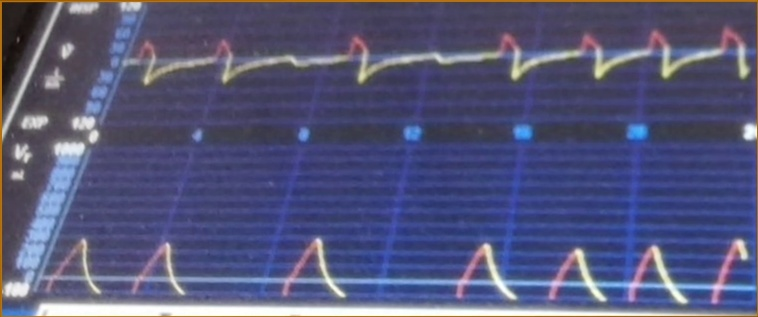Ineffective_effort Flow: (130, 19, 749, 111)
Ineffective_effort Volume: (45, 225, 747, 305)
